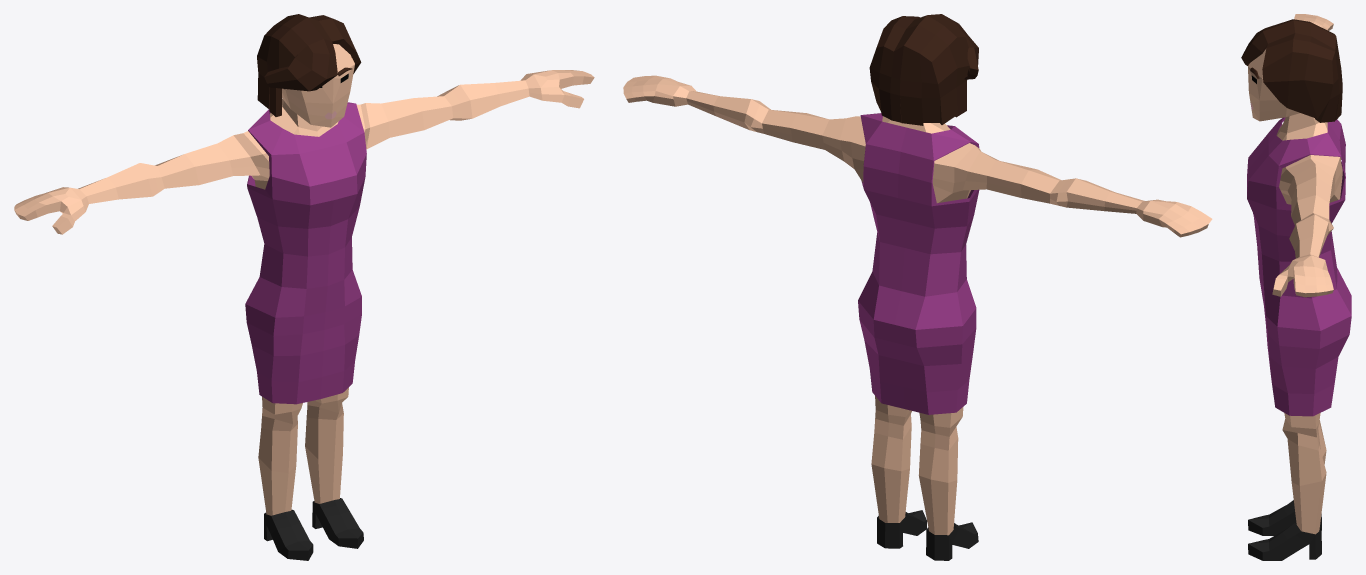
The model's file is NPC_W_Morado_Escenario2_PeloCorto.fbx.
The picture shows the model from 3 angles, left to right: view 1: azimuth 30°, elevation 25°; view 2: azimuth 150°, elevation 25°; view 3: azimuth 270°, elevation 25°; orthographic projection.
Parts seen in each view (by area): view 1: Vestido; view 2: Vestido; view 3: Vestido.
Boxes of the visible parts, <box> form: Vestido: <box>14,14,594,560</box>; Vestido: <box>623,14,1212,560</box>; Vestido: <box>1241,14,1351,560</box>.
Size of the model in its own units: 215 by 187 by 35.99.
